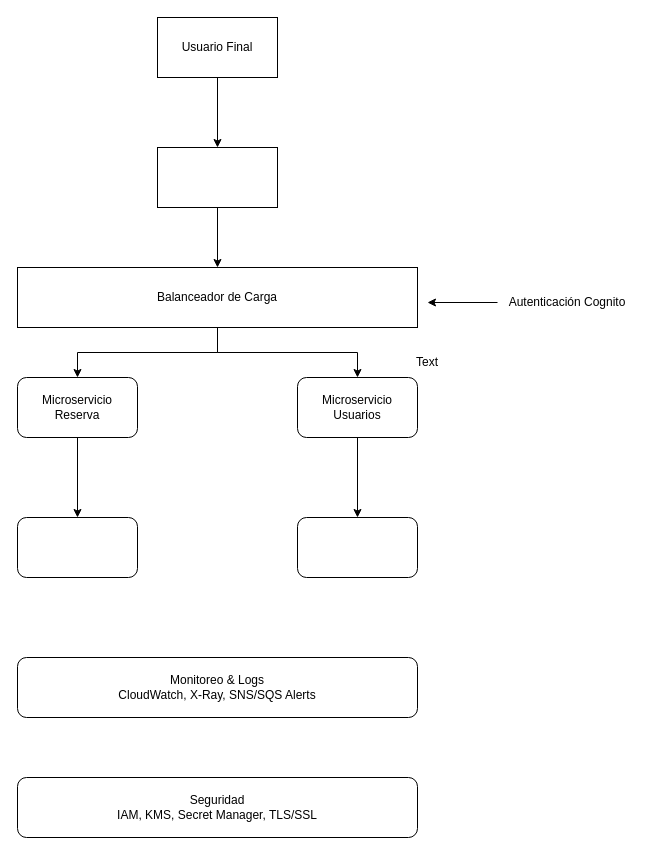
The diagram is 655 pixels wide and 855 high, and some of its shapes have lost their labels. The box of each missing label's shape, as (x1, y1, x2, y2) in pixels:
API Gateway: (156, 146, 278, 208)
Base de Datos DynamoDB (sesiones): (296, 516, 418, 578)
Base de Datos PostgreSQL RDS: (16, 516, 138, 578)
